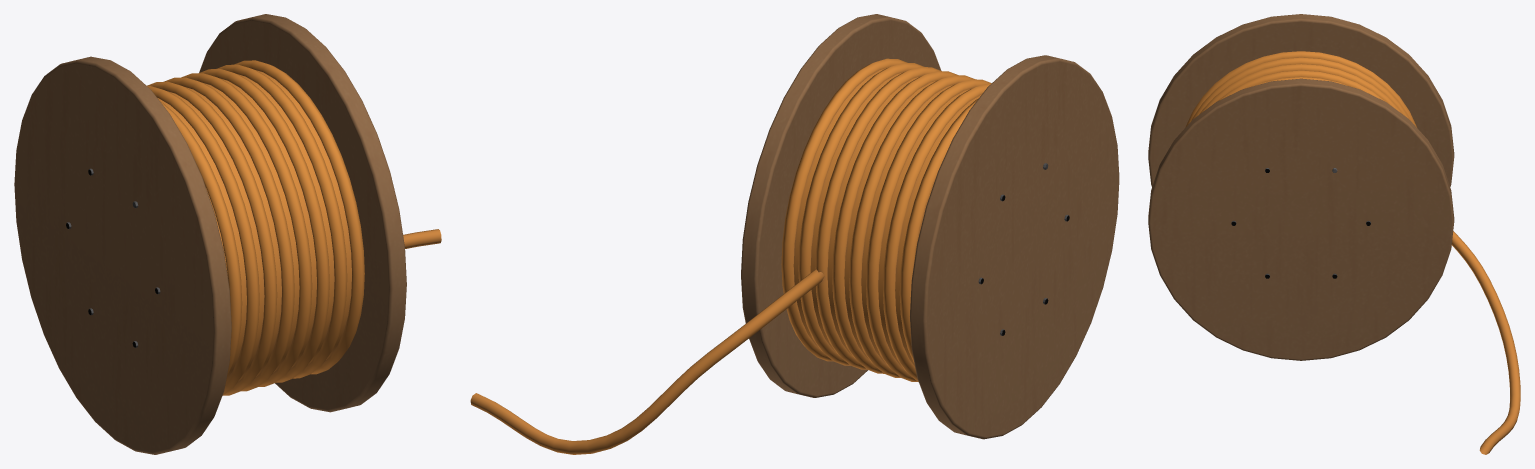
File: bobina_cable.glb
The picture shows the model from 3 angles, left to right: view 1: azimuth 30°, elevation 25°; view 2: azimuth 150°, elevation 25°; view 3: azimuth 270°, elevation 25°; orthographic projection. The views are drawn at different scales.
Parts seen in each view (by area): view 1: bobina_cable; view 2: bobina_cable; view 3: bobina_cable.
Boxes of the visible parts, x1=… form: bobina_cable: x1=14, y1=14, x2=441, y2=454; bobina_cable: x1=470, y1=14, x2=1119, y2=454; bobina_cable: x1=1148, y1=14, x2=1520, y2=454.
Size of the model in its own units: 1.29 by 1.02 by 1.22.
1 material, 1 textured.
